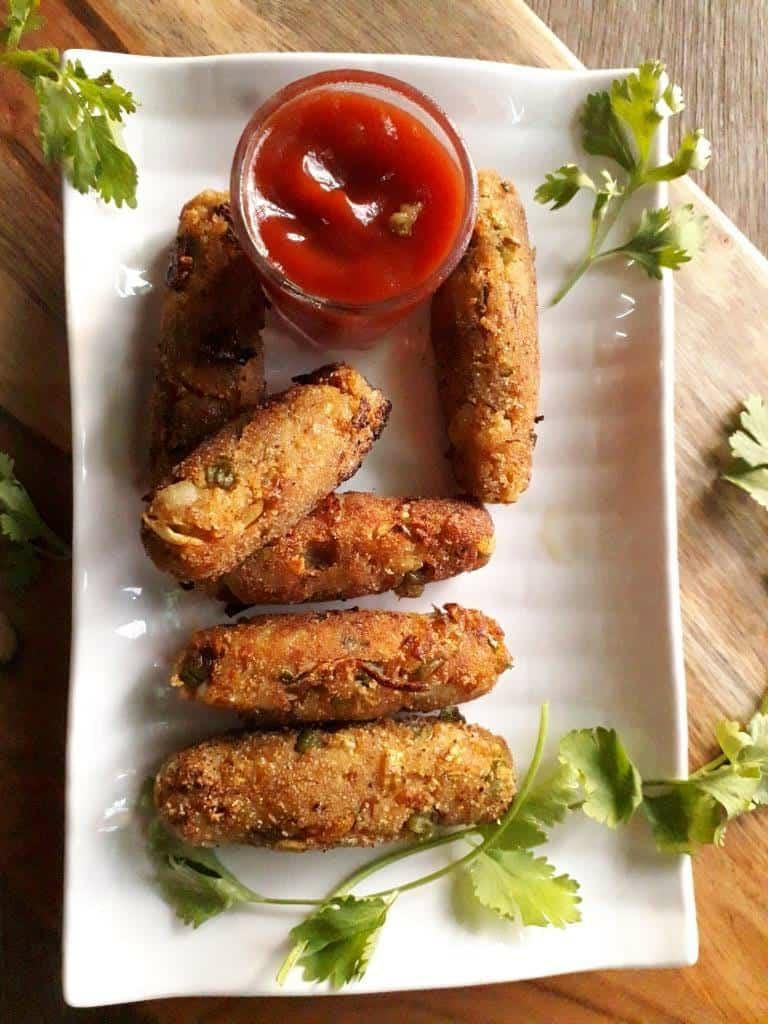Kebab: (146, 362, 393, 584), (152, 720, 516, 850), (141, 188, 270, 532), (168, 603, 513, 715), (436, 171, 539, 504), (224, 493, 492, 600)
